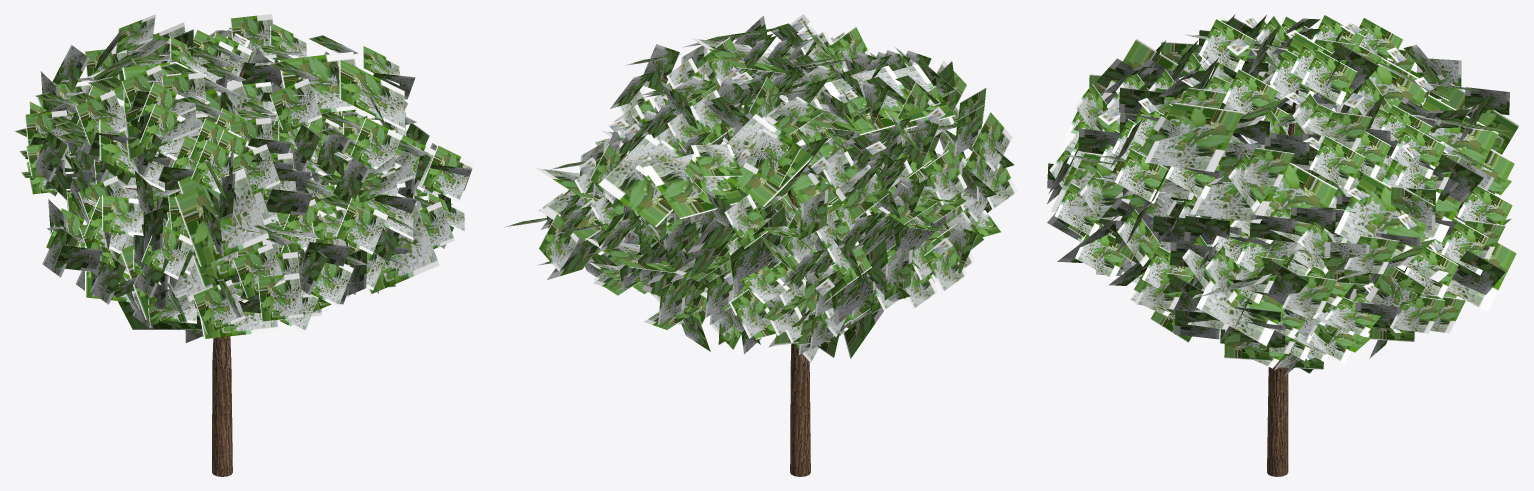
File: tree_37.glb
3 renders of one model, left to right at view 1: azimuth 30°, elevation 25°; view 2: azimuth 150°, elevation 25°; view 3: azimuth 270°, elevation 25°, orthographic. The views are drawn at different scales.
Parts seen in each view (by area): view 1: MainBuilding; view 2: MainBuilding; view 3: MainBuilding.
Boxes of the visible parts, box(x1,y1,x2,y2) form: MainBuilding: box(15, 14, 474, 476); MainBuilding: box(504, 14, 1017, 476); MainBuilding: box(1047, 14, 1519, 476).
Bounding box in the file's own units: 8.43 × 8.31 × 8.29.
Materials: 1 (1 with a texture image).
